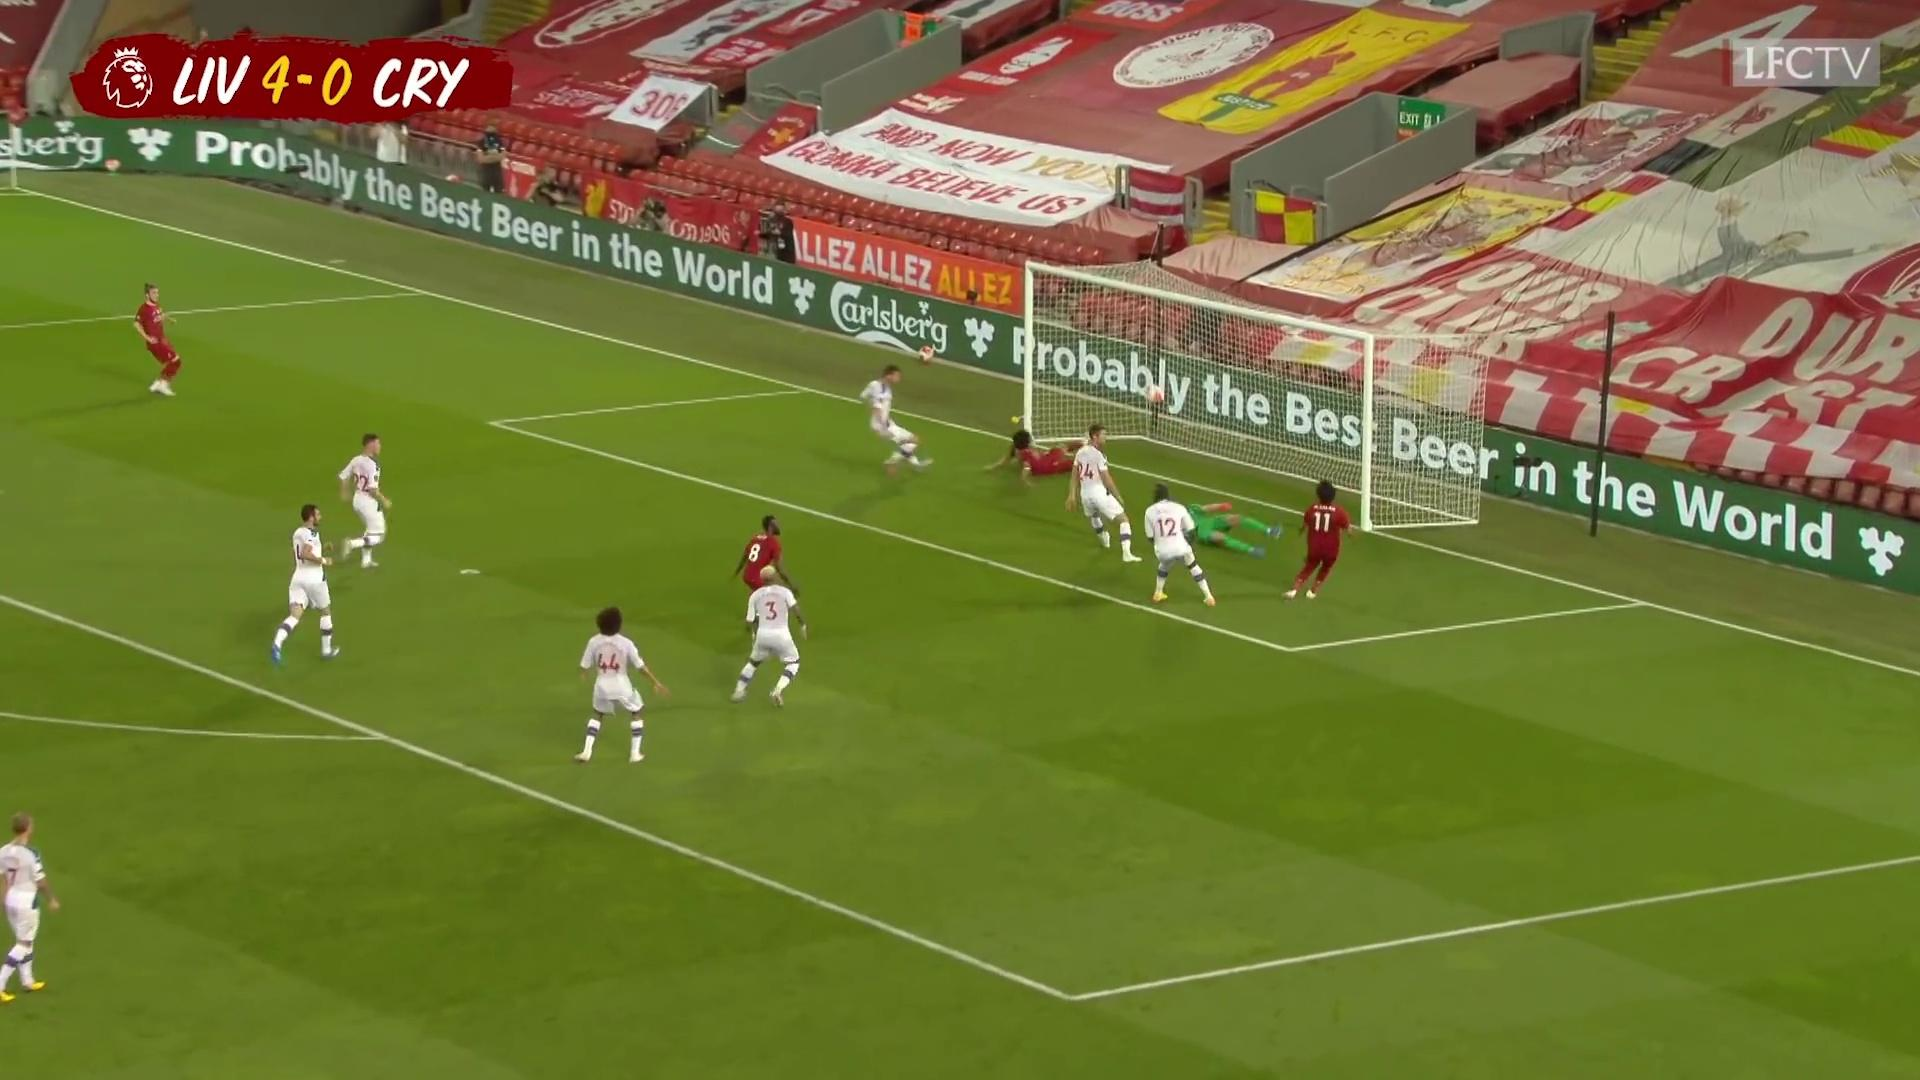ball: (1141, 380, 1169, 407), (916, 344, 936, 364), (104, 156, 123, 175)
goalkeeper: (1142, 499, 1285, 561)
player: (574, 600, 671, 767), (269, 500, 344, 666), (729, 564, 811, 711), (0, 811, 62, 1005), (1063, 420, 1145, 566), (1281, 475, 1359, 604), (1144, 479, 1221, 608), (857, 363, 936, 484), (727, 509, 798, 640), (980, 423, 1115, 489), (337, 430, 394, 571), (132, 280, 185, 399)
